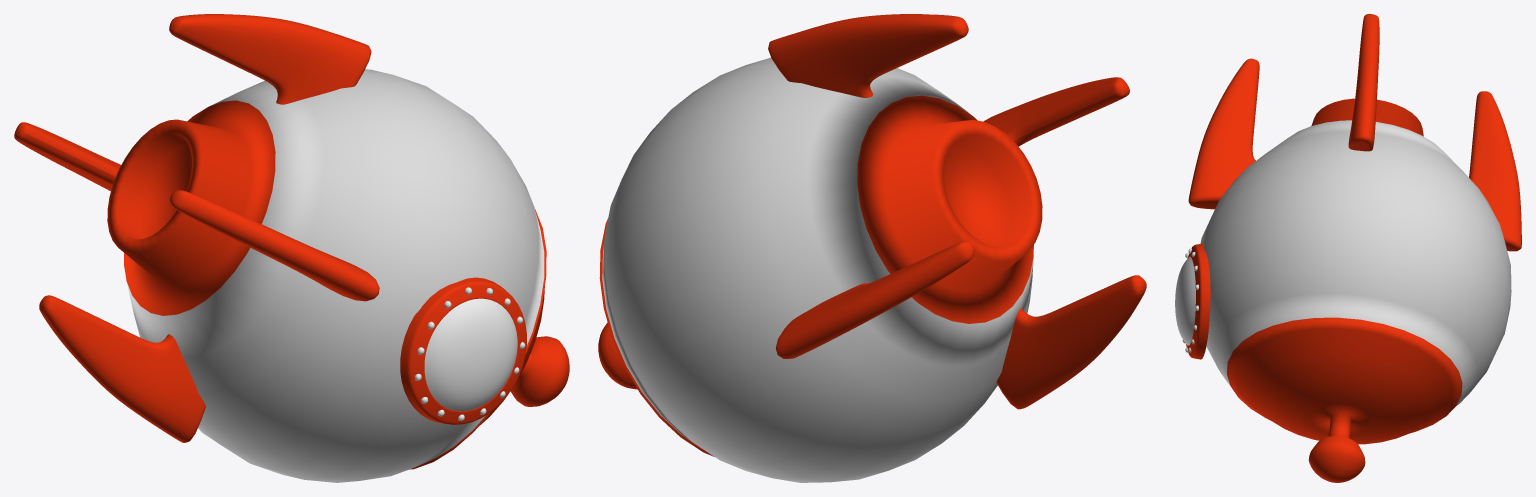
File: cohete.fbx
3 views of the same model, side by side, from view 1: azimuth 30°, elevation 25°; view 2: azimuth 150°, elevation 25°; view 3: azimuth 270°, elevation 25° (orthographic). The views are drawn at different scales.
Visible parts, largest first — view 1: Sphere.004, Plane.002, Plane.004, Sphere.003, Circle.002, Cube.110; view 2: Sphere.004, Plane.002, Plane.004; view 3: Sphere.004, Plane.004, Plane.002, Circle.002, Sphere.003.
Part boxes in pixels (x1,y1,x2,y2): Sphere.004: (107, 69, 569, 482); Plane.002: (39, 14, 371, 442); Plane.004: (14, 122, 379, 301); Sphere.003: (424, 298, 517, 411); Circle.002: (400, 277, 526, 424); Cube.110: (414, 287, 525, 420); Sphere.004: (598, 57, 1042, 482); Plane.002: (768, 14, 1146, 409); Plane.004: (775, 77, 1129, 358); Sphere.004: (1200, 98, 1511, 482); Plane.004: (1188, 58, 1521, 251); Plane.002: (1348, 14, 1379, 151); Circle.002: (1186, 243, 1210, 359); Sphere.003: (1175, 256, 1195, 345).
Bounding box in the file's own units: 4169 × 3609 × 3141.
